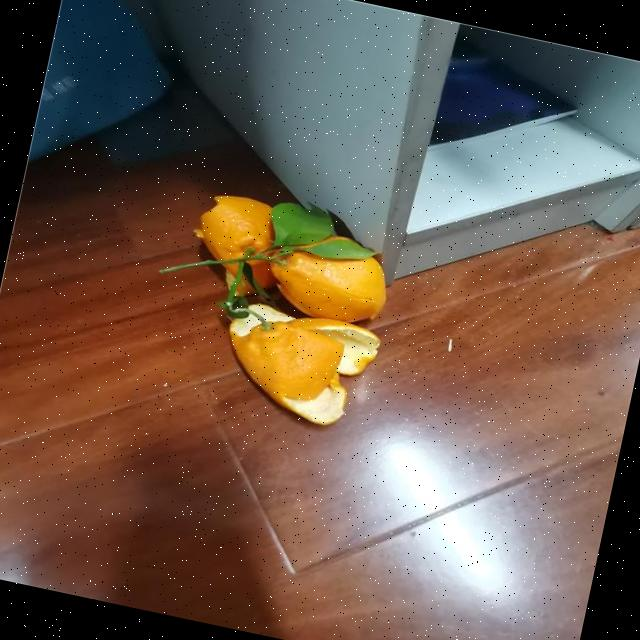orange-peel: (212, 296, 363, 428), (261, 222, 397, 330), (183, 186, 292, 300)
